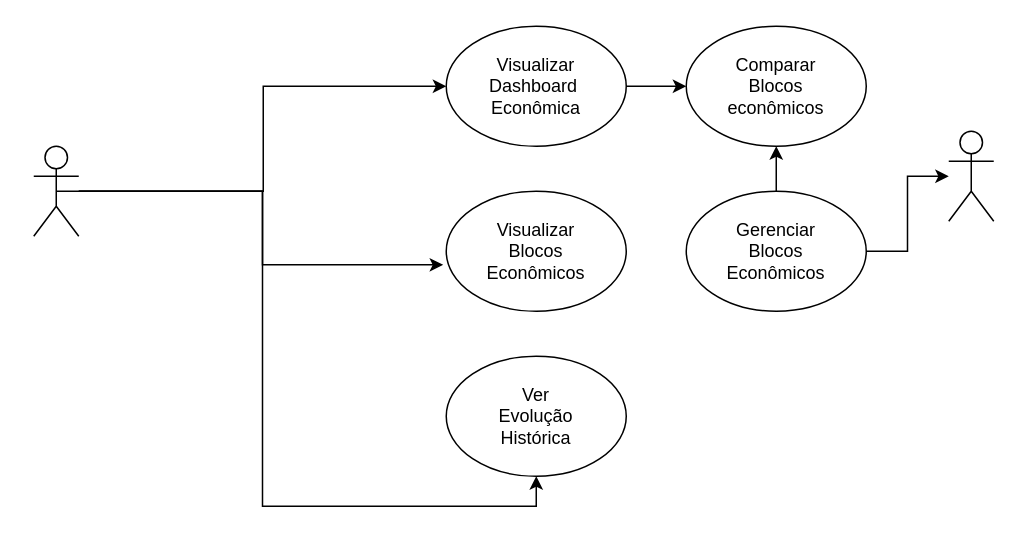
The diagram is 1023 pixels wide and 545 high, and some of its shapes have lost their labels. Each missing label, with the centre of its shape:
Admin: the point at 970,175
Usuário: the point at 55,190
